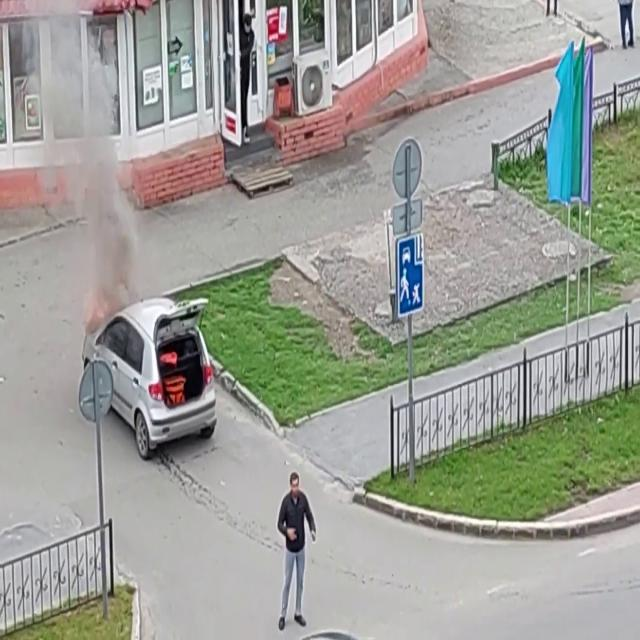Smoke: (34, 4, 152, 324)
